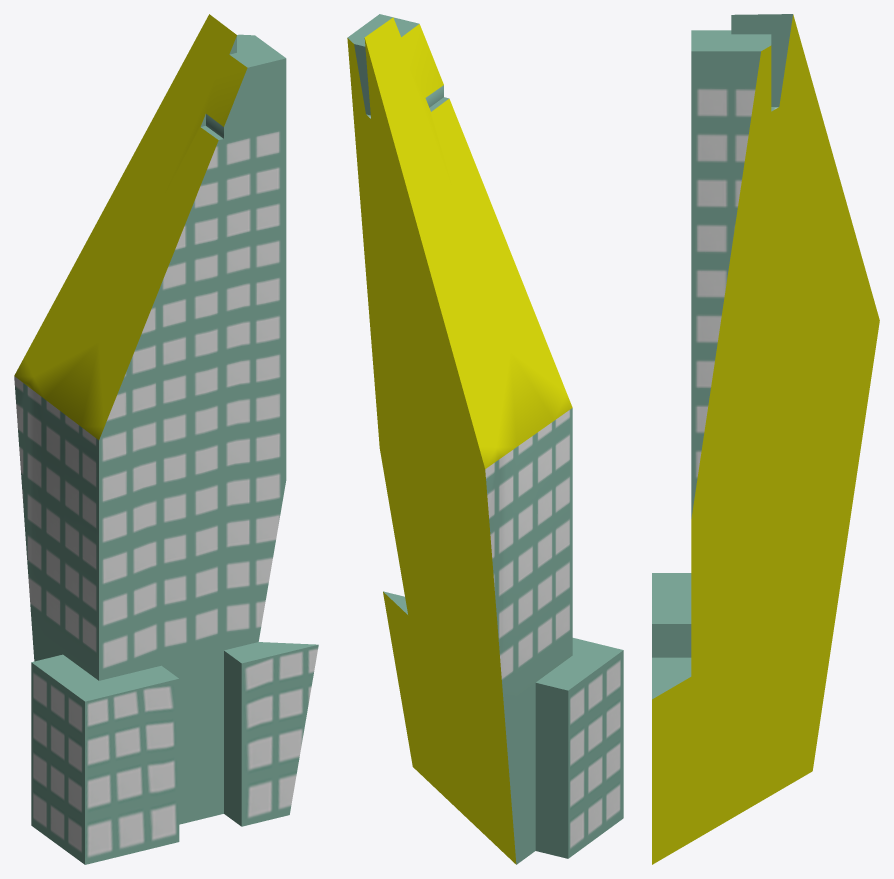
Rendered from esShard5.fbx.
The picture shows the model from 3 angles, left to right: view 1: azimuth 30°, elevation 25°; view 2: azimuth 150°, elevation 25°; view 3: azimuth 270°, elevation 25°; orthographic projection. The views are drawn at different scales.
Parts seen in each view (by area): view 1: shard68; view 2: shard68; view 3: shard68.
Part boxes in pixels (x1,y1,x2,y2): shard68: (14, 14, 318, 864); shard68: (347, 14, 623, 864); shard68: (652, 14, 879, 864).
Size of the model in its own units: 0.1212 by 0.3759 by 0.0922.
Materials: 2 (1 with a texture image).
